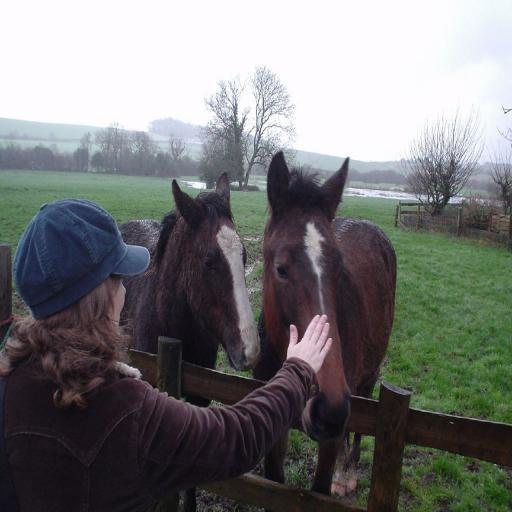horse: (252, 150, 396, 500), (116, 180, 266, 512)
